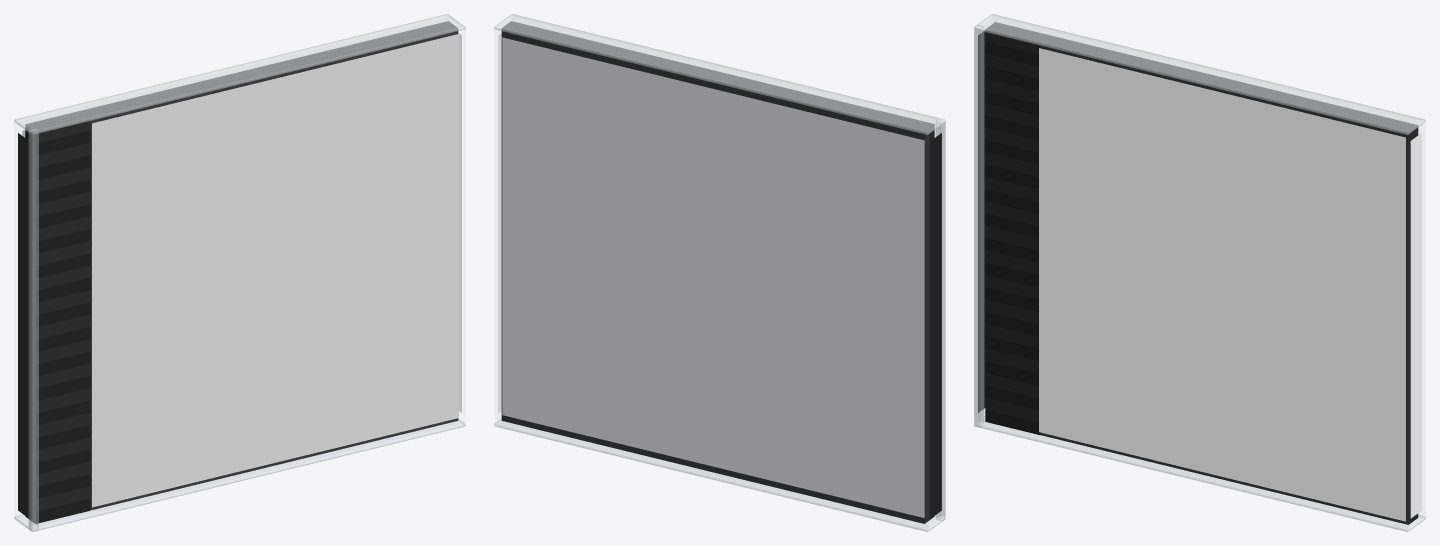
File: caja-ps1.glb
3 renders of one model, left to right at view 1: azimuth 30°, elevation 25°; view 2: azimuth 150°, elevation 25°; view 3: azimuth 330°, elevation 25°, orthographic.
Visible parts, largest first — view 1: Portada, Bandeja, Interior, CantoArriba, Lomo, Bisagra, CantoAbajo, LomoDerecho; view 2: Trasera, Interior, CantoArriba, Lomo, CantoAbajo, Bisagra, LomoDerecho; view 3: Portada, Bandeja, Interior, CantoArriba, LomoDerecho, Bisagra, CantoAbajo, Lomo.
Boxes of the visible parts, bbox=[...] form: Portada: bbox=[92, 34, 458, 507]; Bandeja: bbox=[36, 118, 90, 523]; Interior: bbox=[25, 21, 458, 523]; CantoArriba: bbox=[14, 14, 465, 134]; Lomo: bbox=[18, 133, 29, 518]; Bisagra: bbox=[28, 129, 38, 531]; CantoAbajo: bbox=[14, 419, 465, 531]; LomoDerecho: bbox=[458, 33, 461, 412]; Trasera: bbox=[502, 37, 924, 517]; Interior: bbox=[501, 21, 934, 523]; CantoArriba: bbox=[494, 14, 945, 134]; Lomo: bbox=[930, 133, 941, 518]; CantoAbajo: bbox=[494, 419, 945, 531]; Bisagra: bbox=[935, 118, 945, 520]; LomoDerecho: bbox=[498, 33, 501, 412]; Portada: bbox=[1039, 48, 1405, 521]; Bandeja: bbox=[985, 29, 1040, 434]; Interior: bbox=[986, 22, 1418, 524]; CantoArriba: bbox=[974, 14, 1425, 134]; LomoDerecho: bbox=[1410, 133, 1421, 518]; Bisagra: bbox=[974, 25, 984, 427]; CantoAbajo: bbox=[974, 416, 1425, 531]; Lomo: bbox=[978, 31, 985, 412].
Size of the model in its own units: 0.142 by 0.125 by 0.0104.
Materials: 8 (5 with a texture image).
